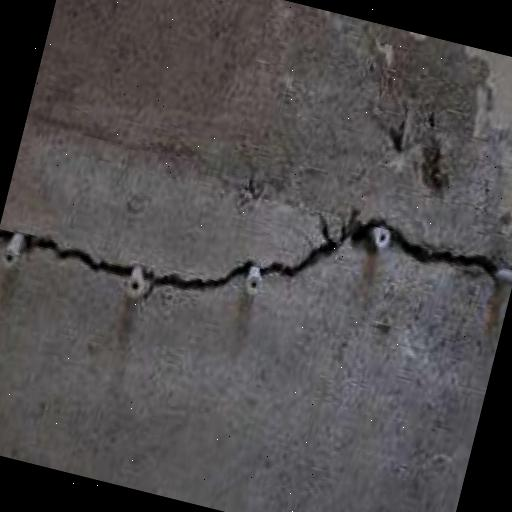spalling: (0, 208, 509, 314)
